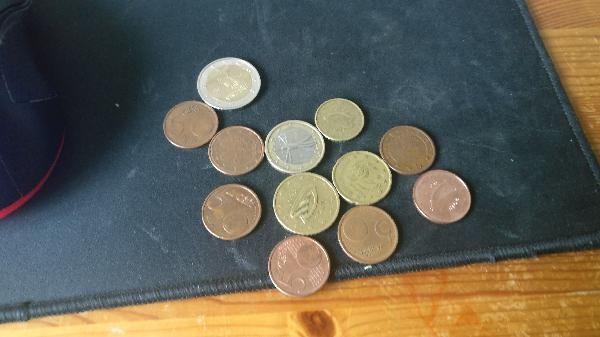Fifty Cent: (270, 173, 340, 236)
Five Cent: (266, 234, 329, 298), (200, 182, 263, 240), (411, 167, 470, 227), (337, 206, 395, 264), (207, 125, 266, 179), (379, 124, 439, 175), (163, 100, 217, 150)
One Euro: (266, 121, 327, 171)
Ten Cent: (316, 98, 366, 142)
Twenty Cent: (332, 153, 394, 203)
Two Euro: (198, 57, 264, 110)
